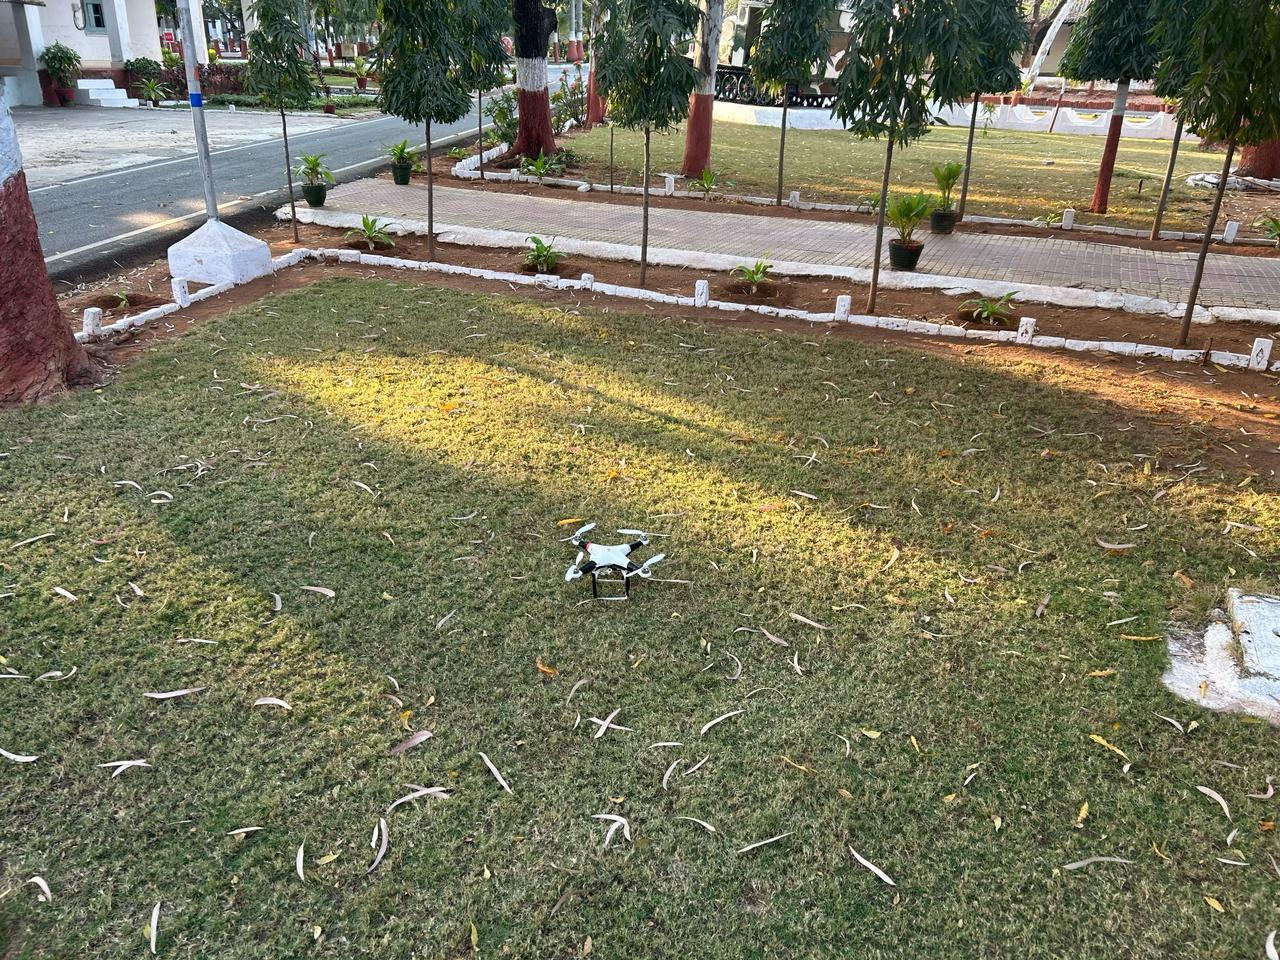drone: (522, 463, 721, 657)
